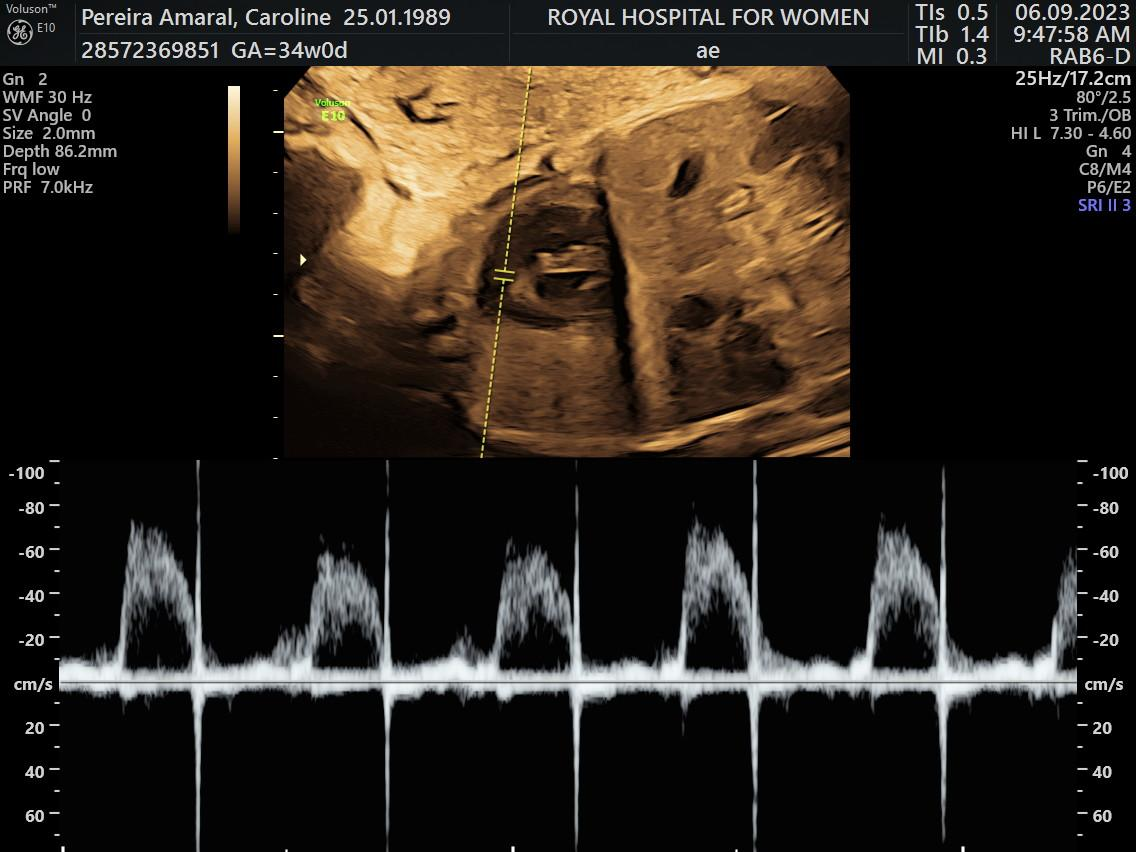Ultrasound-Waves: (62, 456, 1076, 849)
